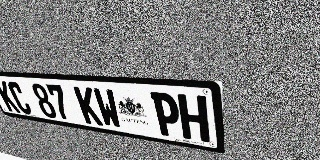7: (45, 84, 74, 121)
8: (29, 83, 58, 119)
C: (6, 81, 34, 115)
H: (177, 94, 210, 142)
K: (73, 86, 103, 126), (0, 80, 21, 113)
P: (150, 92, 182, 138)
W: (92, 88, 123, 129)
